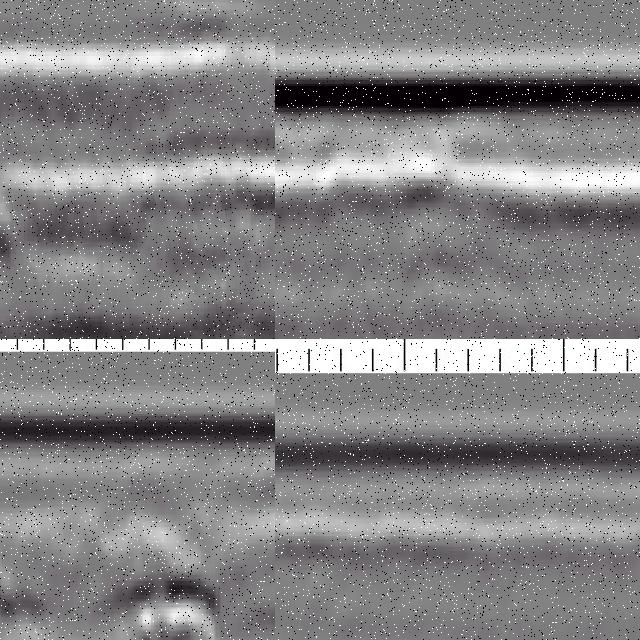loose: (76, 560, 251, 640)
